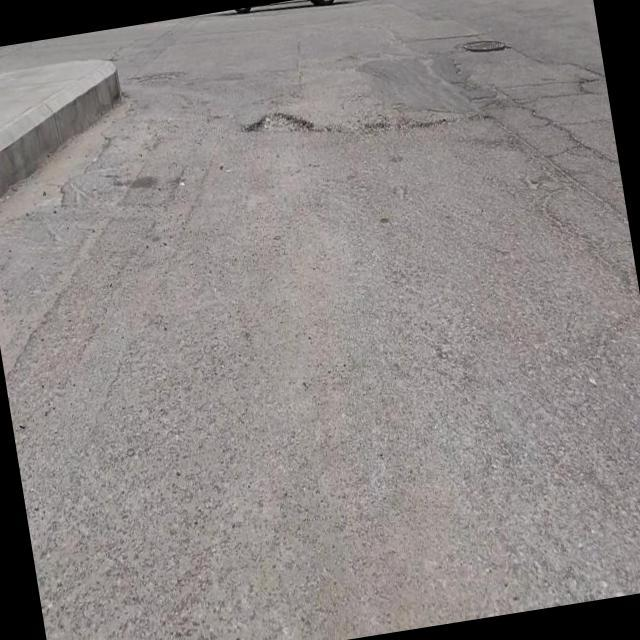Pothole: (243, 108, 314, 134)
